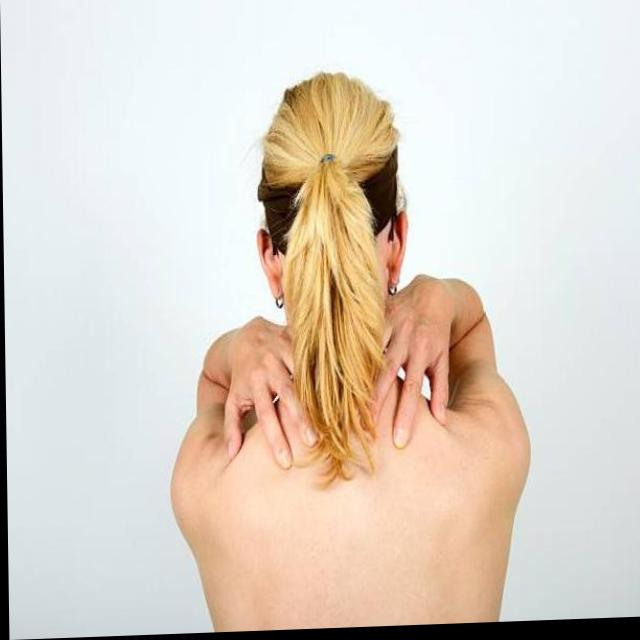no helmet: (244, 70, 417, 350)
